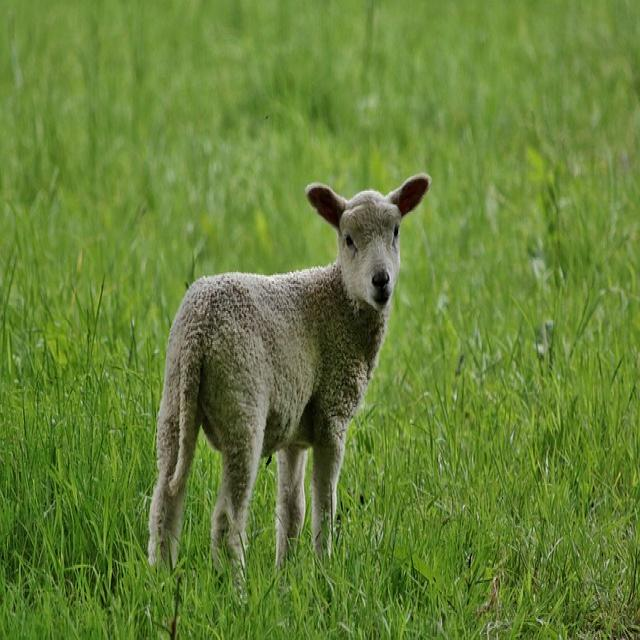goat: (146, 174, 431, 605)
